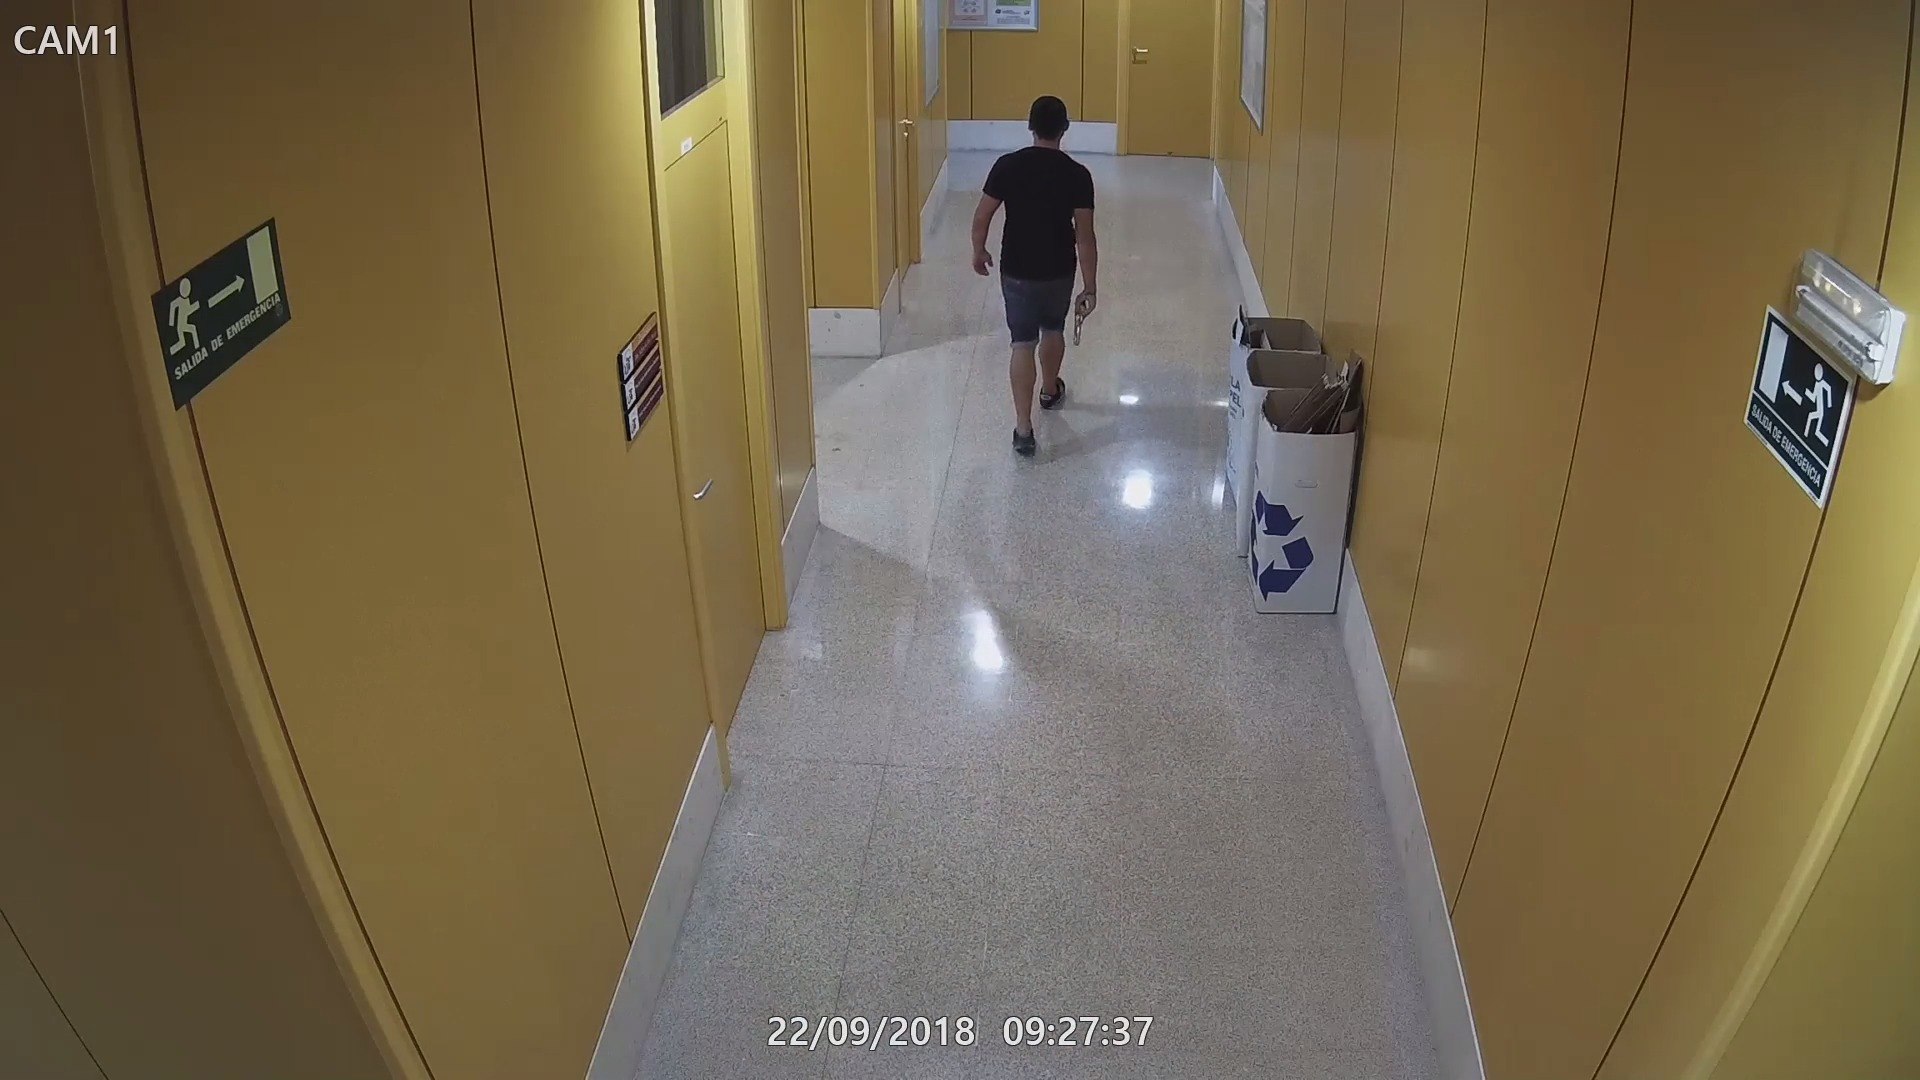Handgun: (1068, 286, 1100, 348)
